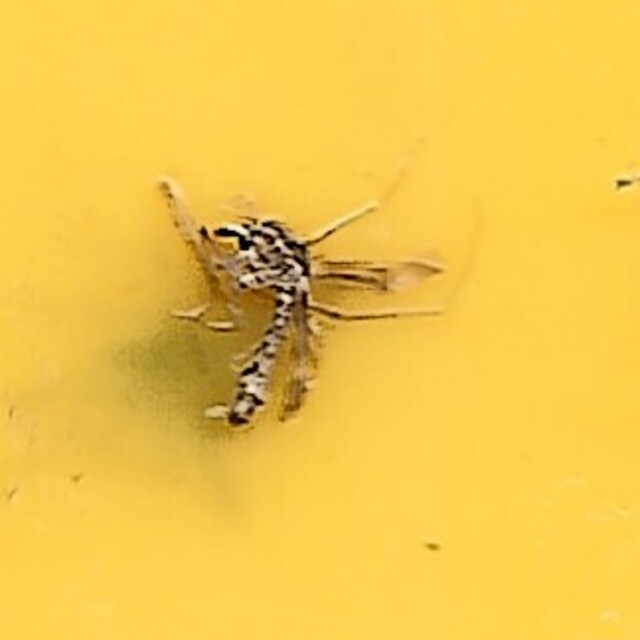Nematocera: (198, 199, 442, 441)
